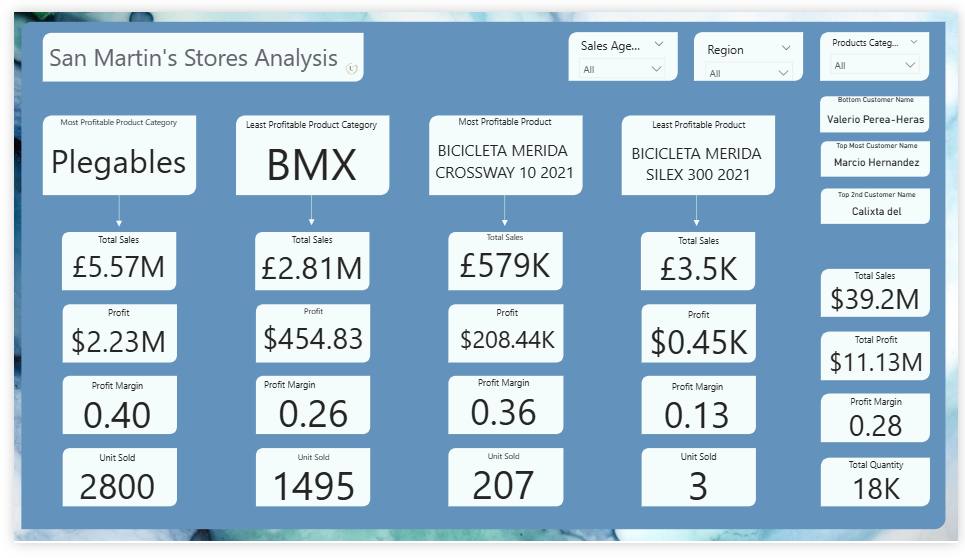

What the dashboard file says about the page in this screenshot:
{"tool":"powerbi","page":{"name":"Page 2","canvas":[1280,720],"ordinal":3},"visuals":[{"type":"textbox","box":[42.2,33.8,427.1,59.1],"z":0},{"type":"slicer","fields":{"Values":["Products.Products Category"]},"box":[1096.7,29,141.2,63.9],"z":1000},{"type":"slicer","fields":{"Values":["Locations.Region"]},"box":[927.8,33.8,138.7,59.1],"z":2000},{"type":"slicer","fields":{"Values":["Sales Agents.Sales Agent Name"]},"box":[756.4,29,137.5,63.9],"z":3000},{"type":"card","title":"Total Sales","fields":{"Values":["Sales Tiendas San Martin Janu#4._total sales"]},"box":[1096.7,349.9,141.2,61.5],"z":4000},{"type":"card","title":"Total Profit","fields":{"Values":["Sales Tiendas San Martin Janu#4._total profit"]},"box":[1097.9,435.5,141.2,61.5],"z":5000},{"type":"card","title":"Profit Margin","fields":{"Values":["Sales Tiendas San Martin Janu#4._profit margin"]},"box":[1099.1,520,141.2,61.5],"z":6000},{"type":"card","title":"Total Quantity","fields":{"Values":["Sales Tiendas San Martin Janu#4._total quantity"]},"box":[1097.9,605.6,141.2,63.9],"z":7000},{"type":"card","title":"Most Profitable Product Category","fields":{"Values":["Products._top product. cat."]},"box":[42.2,142.4,199.1,102.5],"z":8000},{"type":"card","title":"Total Sales","fields":{"Values":["Products._Product Category Total Sales"]},"box":[70,300.4,144.8,72.4],"z":9000},{"type":"card","title":"Profit","fields":{"Values":["Products._Product Category profit"]},"box":[70,399.3,144.8,73.6],"z":10000},{"type":"card","title":"Profit Margin","fields":{"Values":["Products._top profit margin"]},"box":[68.4,497.6,144.8,72.4],"z":11000},{"type":"card","title":"Unit Sold","fields":{"Values":["Products._Product Category Unit Sold"]},"box":[68.4,596.6,144.8,72.4],"z":12000},{"type":"card","title":"Total Sales","fields":{"Values":["Products.__bottom PRODUCT CATEGORY Sales"]},"box":[329.4,299.2,150.8,74.8],"z":13000},{"type":"card","title":"Profit","fields":{"Values":["Products.__bottom PRODUCT profit"]},"box":[329.4,398.1,154.4,72.4],"z":14000},{"type":"card","title":"Profit Margin","fields":{"Values":["Products.__bottom PRODUCT cat profit margin"]},"box":[334.2,497,144.8,72.4],"z":15000},{"type":"card","title":"Unit Sold","fields":{"Values":["Products.__bottom PRODUCT cat. qty"]},"box":[334.2,596,144.8,72.4],"z":16000},{"type":"card","title":"Most Profitable Product","fields":{"Values":["Products.__top product rank name"]},"box":[566,140.2,199.1,102.5],"z":17000},{"type":"card","title":"Total Sales","fields":{"Values":["Products.__product rank total sales"]},"box":[593.8,298.2,144.8,72.4],"z":18000},{"type":"card","title":"Profit","fields":{"Values":["Products.__product rank profit"]},"box":[592.4,399.3,154.4,72.4],"z":19000},{"type":"card","title":"Profit Margin","fields":{"Values":["Products.__product rank profit margin"]},"box":[592.2,495.4,144.8,72.4],"z":20000},{"type":"card","title":"Unit Sold","fields":{"Values":["Products.__product rank Unit sold"]},"box":[592.2,594.4,144.8,72.4],"z":21000},{"type":"card","title":"Least Profitable Product","fields":{"Values":["Products.__bottom product rank name"]},"box":[828.6,144,199.1,102.5],"z":22000},{"type":"card","title":"Total Sales","fields":{"Values":["Products.__bottom PRODUCT Sales"]},"box":[856.3,302.1,144.8,72.4],"z":23000},{"type":"card","title":"Profit","fields":{"Values":["Products.__bottom PRODUCT profit"]},"box":[856.3,401,144.8,72.4],"z":24000},{"type":"card","title":"Profit Margin","fields":{"Values":["Products.__bottom PRODUCT profit margin"]},"box":[854.7,499.3,144.8,72.4],"z":25000},{"type":"card","title":"Unit Sold","fields":{"Values":["Products.__bottom PRODUCT qty"]},"box":[856.6,594.8,144.8,72.4],"z":26000},{"type":"card","title":"Least Profitable Product Category","fields":{"Values":["Products.__bottom product name"]},"box":[308.8,143.6,189.4,98.9],"z":27000}]}

Visuals, with their boxes in screenshot pixels (x1, y1, x2, y2), scaled from the page's 1280x720 canvas onto the 965x558 screenshot:
textbox: 32,26,354,72
slicer - Products.Products Category: 827,22,933,72
slicer - Locations.Region: 699,26,804,72
slicer - Sales Agents.Sales Agent Name: 570,22,674,72
"Total Sales" card: 827,271,933,319
"Total Profit" card: 828,338,934,385
"Profit Margin" card: 829,403,935,451
"Total Quantity" card: 828,469,934,519
"Most Profitable Product Category" card: 32,110,182,190
"Total Sales" card: 53,233,162,289
"Profit" card: 53,309,162,366
"Profit Margin" card: 52,386,161,442
"Unit Sold" card: 52,462,161,518
"Total Sales" card: 248,232,362,290
"Profit" card: 248,309,365,365
"Profit Margin" card: 252,385,361,441
"Unit Sold" card: 252,462,361,518
"Most Profitable Product" card: 427,109,577,188
"Total Sales" card: 448,231,557,287
"Profit" card: 447,309,563,366
"Profit Margin" card: 446,384,556,440
"Unit Sold" card: 446,461,556,517
"Least Profitable Product" card: 625,112,775,191
"Total Sales" card: 646,234,755,290
"Profit" card: 646,311,755,367
"Profit Margin" card: 644,387,754,443
"Unit Sold" card: 646,461,755,517
"Least Profitable Product Category" card: 233,111,376,188
